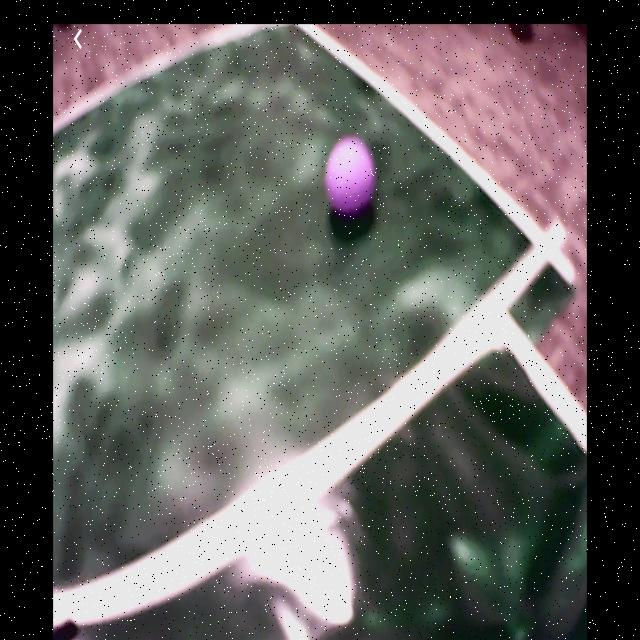ball: (323, 133, 376, 216)
